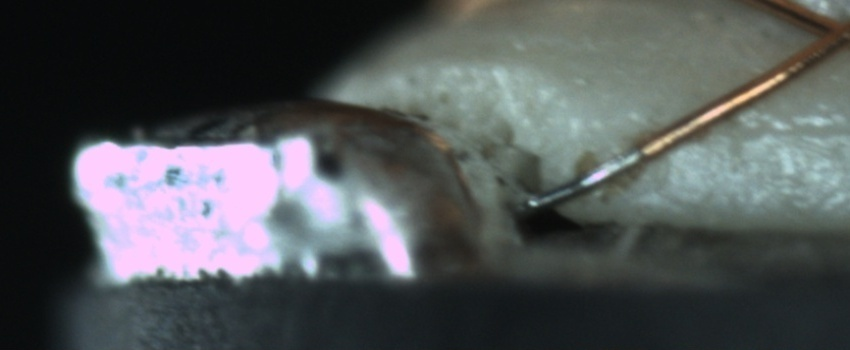CL: (797, 3, 849, 63)
DL: (704, 99, 850, 161)
TS: (526, 147, 647, 211)
